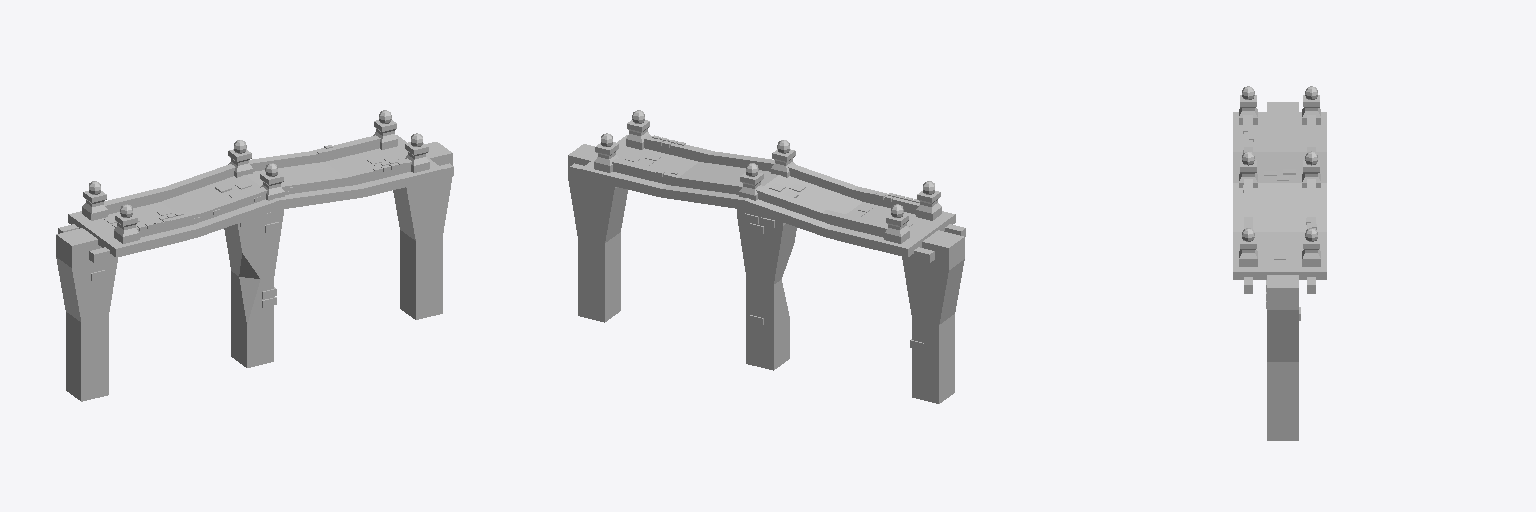
The model's file is Bridge .obj.
3 renders of one model, left to right at view 1: azimuth 30°, elevation 25°; view 2: azimuth 150°, elevation 25°; view 3: azimuth 270°, elevation 25°, orthographic.
Parts seen in each view (by area): view 1: Rock_Bridge; view 2: Rock_Bridge; view 3: Rock_Bridge.
Boxes of the visible parts, x1,y1,x2,y2 form: Rock_Bridge: [56, 110, 453, 401]; Rock_Bridge: [568, 110, 965, 403]; Rock_Bridge: [1233, 86, 1326, 440].
Bounding box in the file's own units: 1390 × 725 × 299.